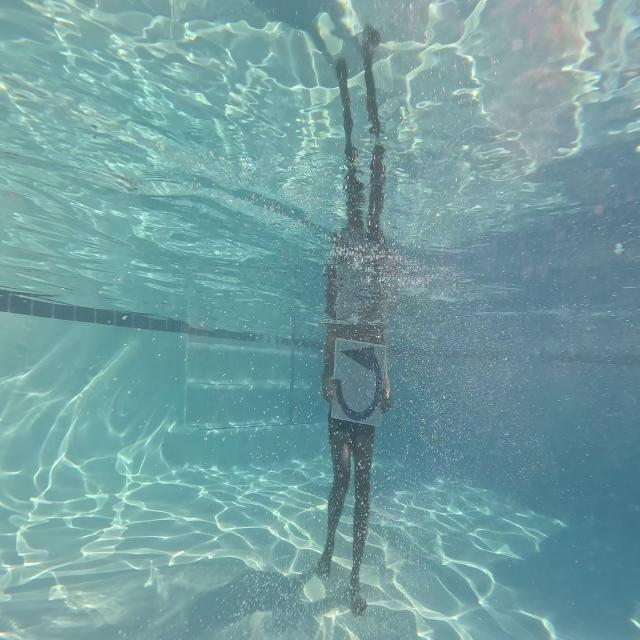blue_side: (328, 332, 388, 429)
